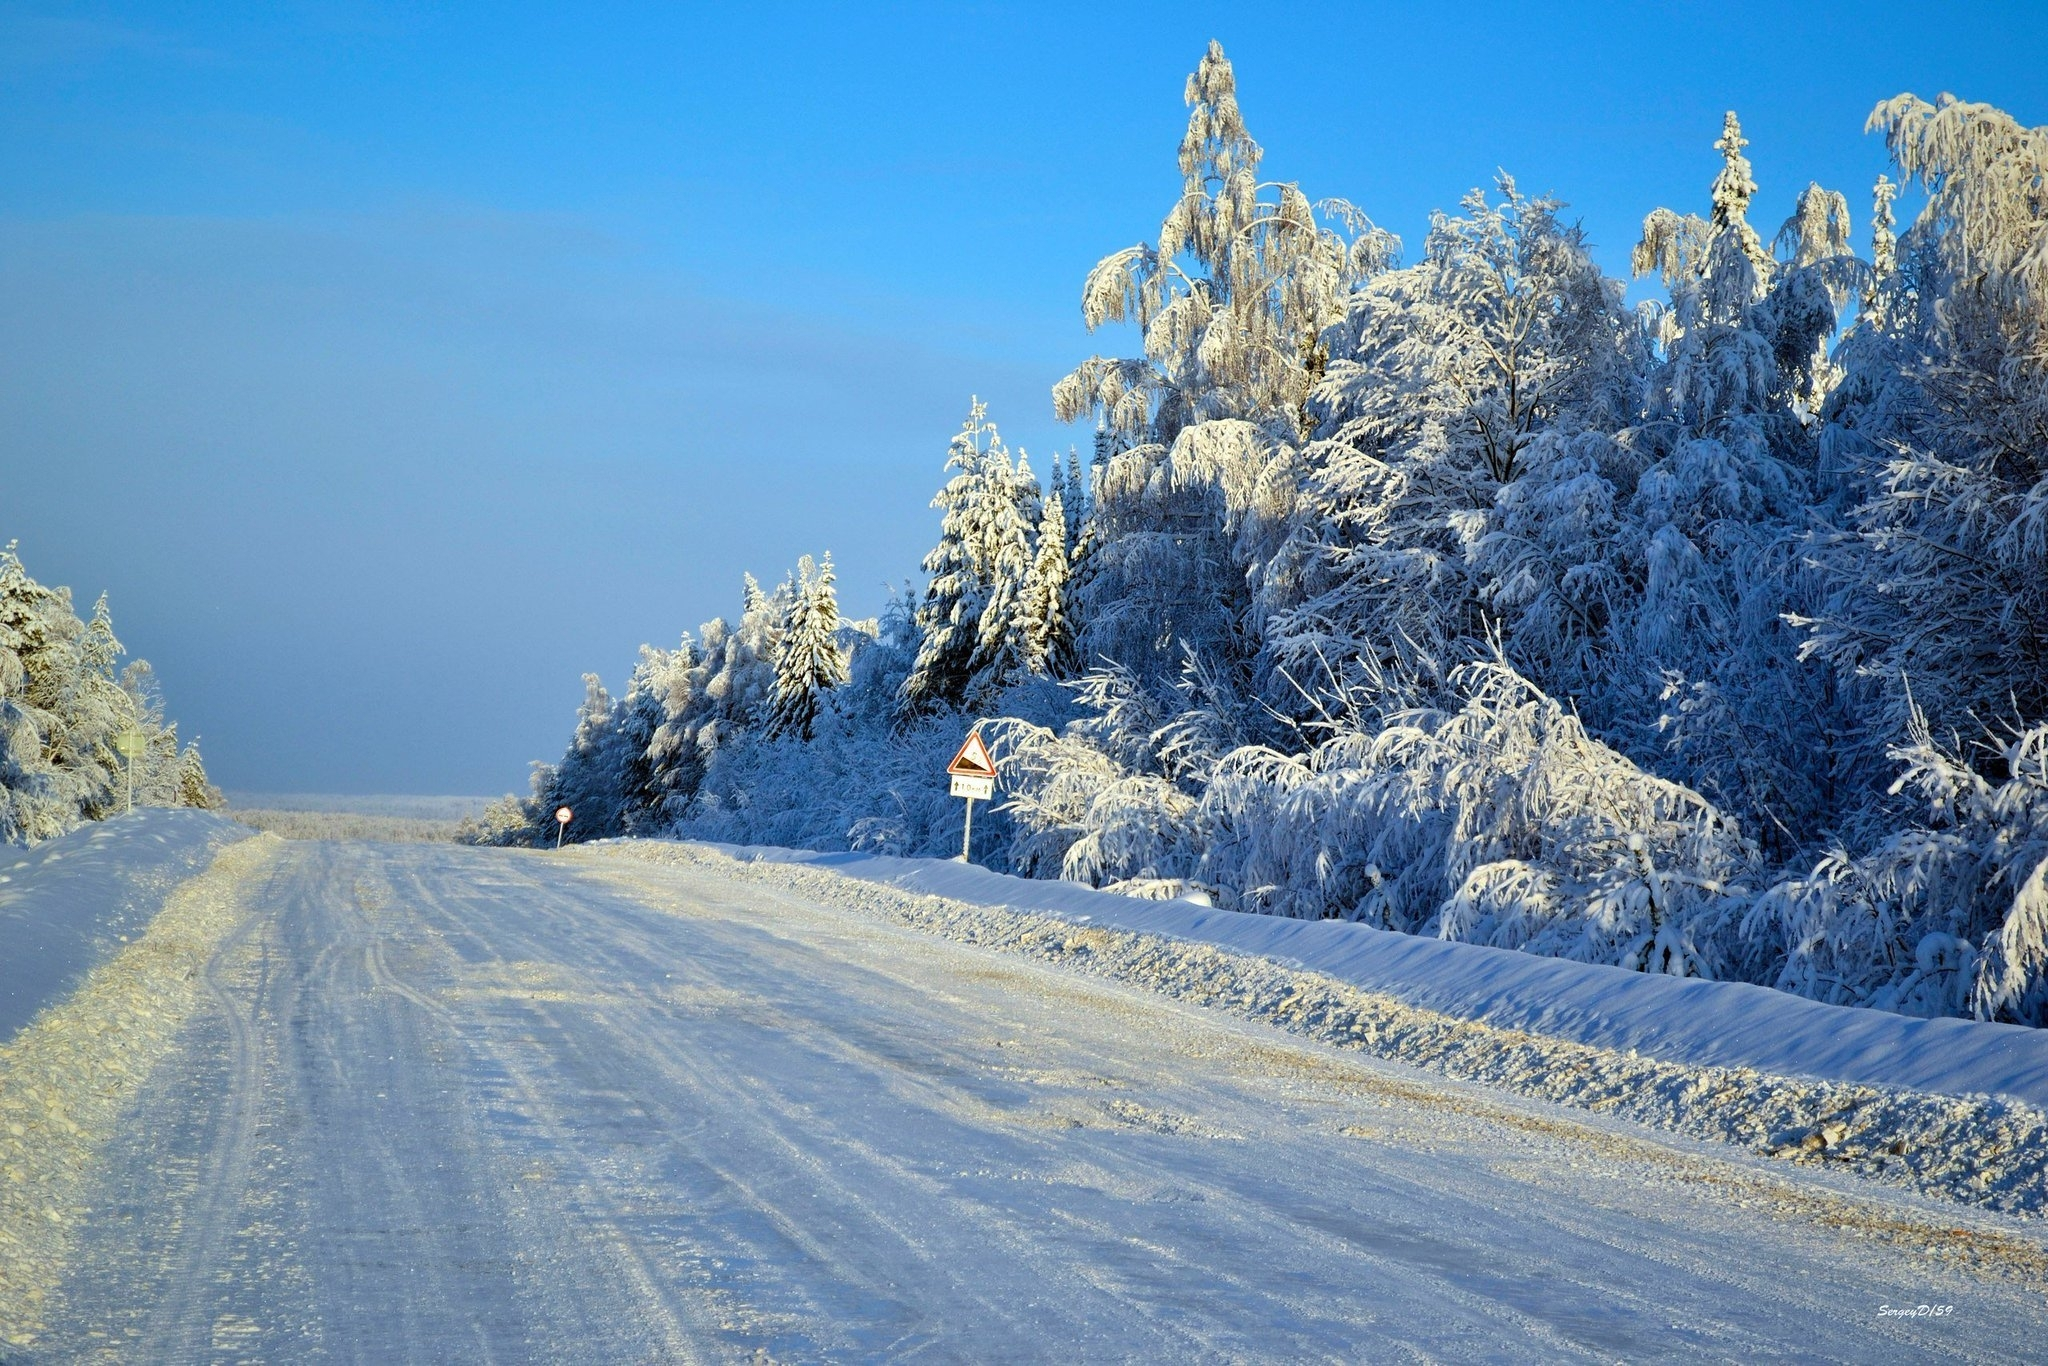sign: (945, 726, 1000, 778), (949, 774, 995, 802), (555, 805, 574, 825)
